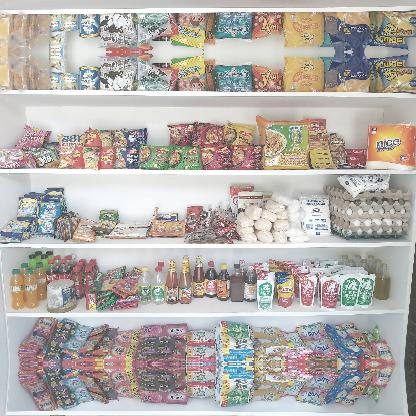Lady-s-Choice: (45, 278, 77, 314)
